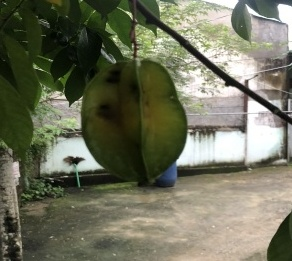Khe: (80, 57, 190, 187)
